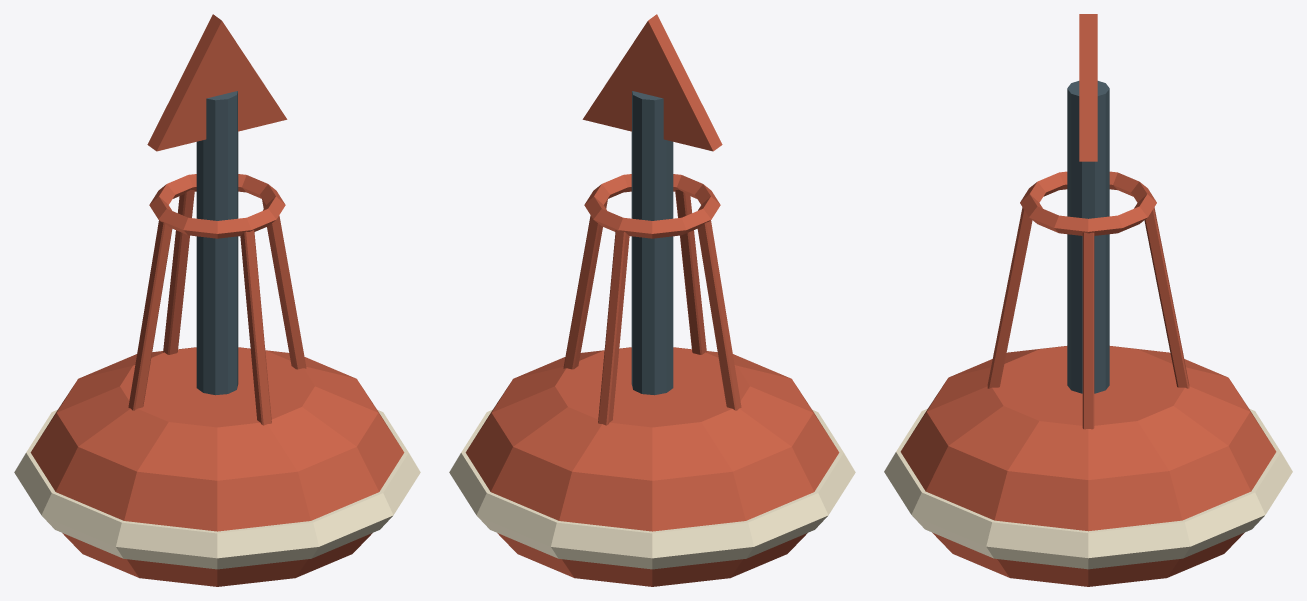
File: 05_Channel_Buoy.glb
The picture shows the model from 3 angles, left to right: view 1: azimuth 30°, elevation 25°; view 2: azimuth 150°, elevation 25°; view 3: azimuth 270°, elevation 25°; orthographic projection.
Visible parts, largest first — view 1: 05_Channel_Buoy__Body; view 2: 05_Channel_Buoy__Body; view 3: 05_Channel_Buoy__Body.
Part boxes in pixels (<box>): 05_Channel_Buoy__Body: <box>14,14,420,586</box>; 05_Channel_Buoy__Body: <box>449,14,855,586</box>; 05_Channel_Buoy__Body: <box>884,14,1292,586</box>.
Bounding box in the file's own units: 1.67 × 2.43 × 1.67.
1 material, 1 textured.
